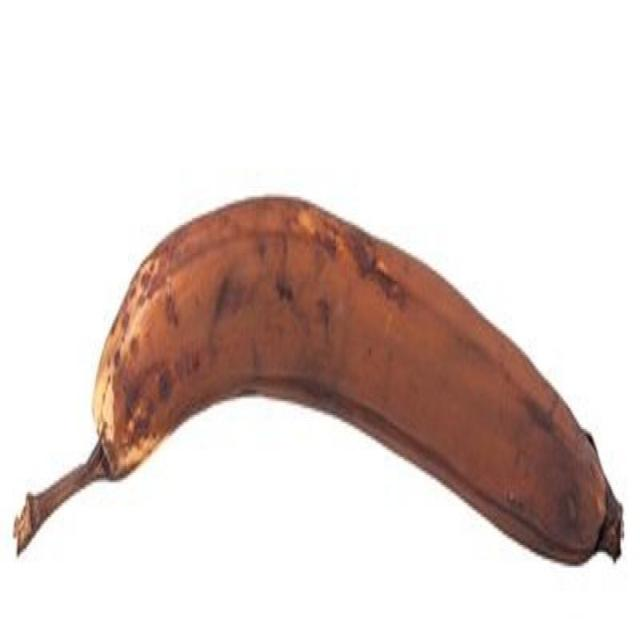organic: (13, 197, 623, 570)
